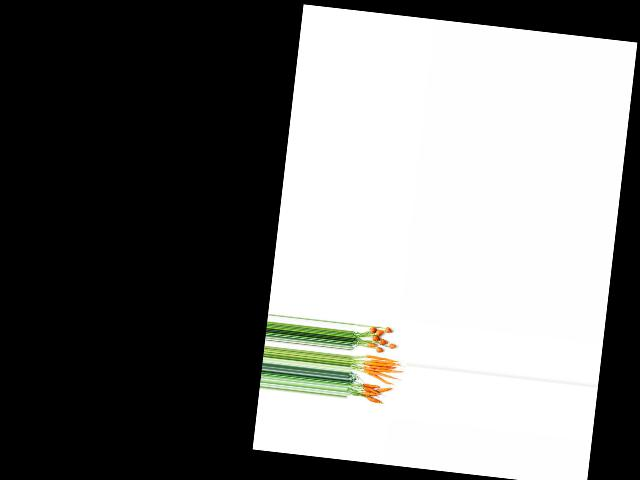carrot: (384, 326, 395, 335)
